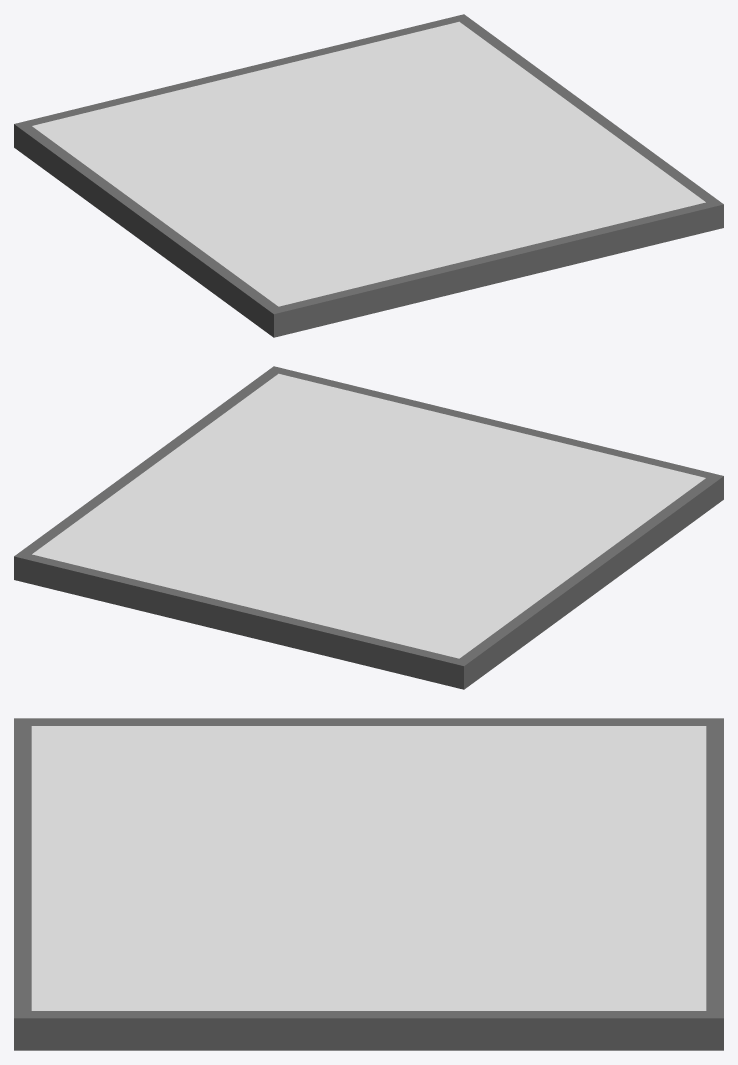
Rendered from SchoolPack-27-White floor.obj.
3 views of the same model, one above another, from view 1: azimuth 30°, elevation 25°; view 2: azimuth 150°, elevation 25°; view 3: azimuth 270°, elevation 25° (orthographic). The views are drawn at different scales.
Visible parts, largest first — view 1: White floor; view 2: White floor; view 3: White floor.
Boxes of the visible parts, x1=… form: White floor: x1=14, y1=14, x2=723, y2=337; White floor: x1=14, y1=366, x2=723, y2=689; White floor: x1=14, y1=718, x2=723, y2=1050.
Bounding box in the file's own units: 4 × 0.2 × 4.
1 material, 1 textured.
